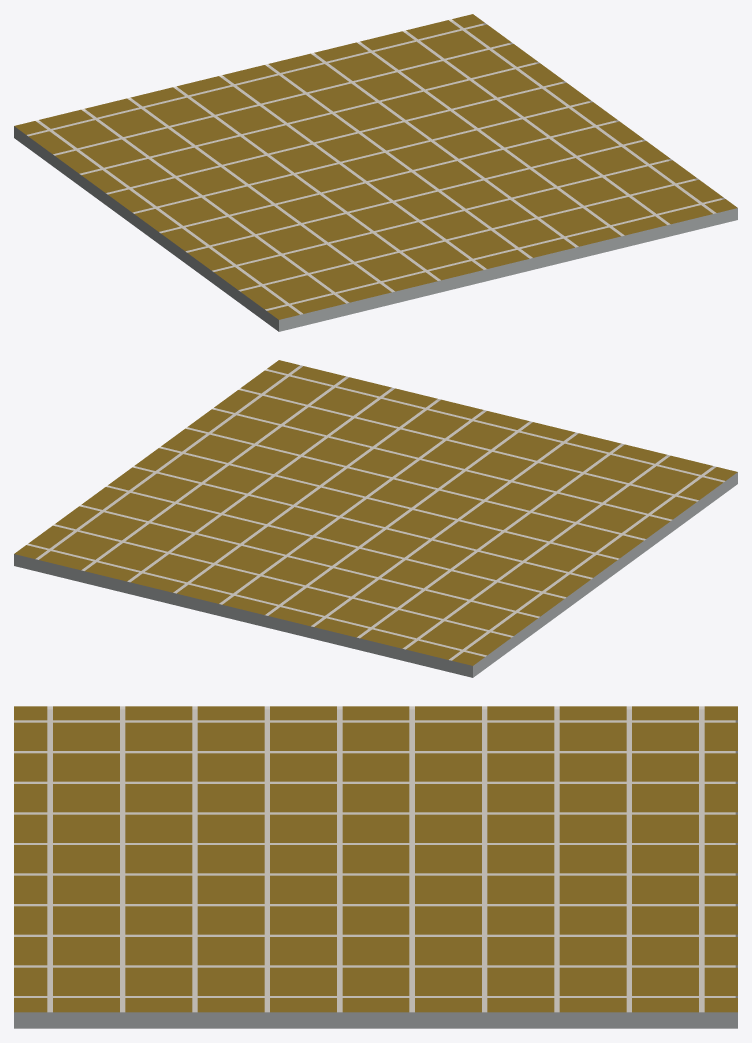
File: floor_1.glb
The picture shows the model from 3 angles, top to bottom: view 1: azimuth 30°, elevation 25°; view 2: azimuth 150°, elevation 25°; view 3: azimuth 270°, elevation 25°; orthographic projection. The views are drawn at different scales.
Parts seen in each view (by area): view 1: mesh_0; view 2: mesh_0; view 3: mesh_0.
Boxes of the visible parts, x1,y1,x2,y2 form: mesh_0: (14,14,737,331); mesh_0: (14,360,737,677); mesh_0: (14,706,737,1028).
Bounding box in the file's own units: 2 × 0.05 × 2.
